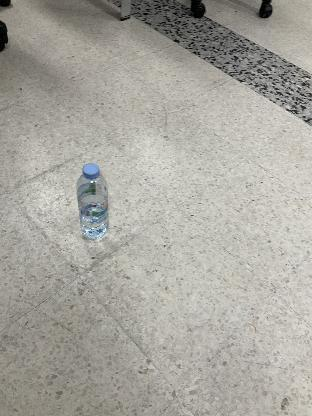Plastic Bottle: (76, 164, 109, 242)
